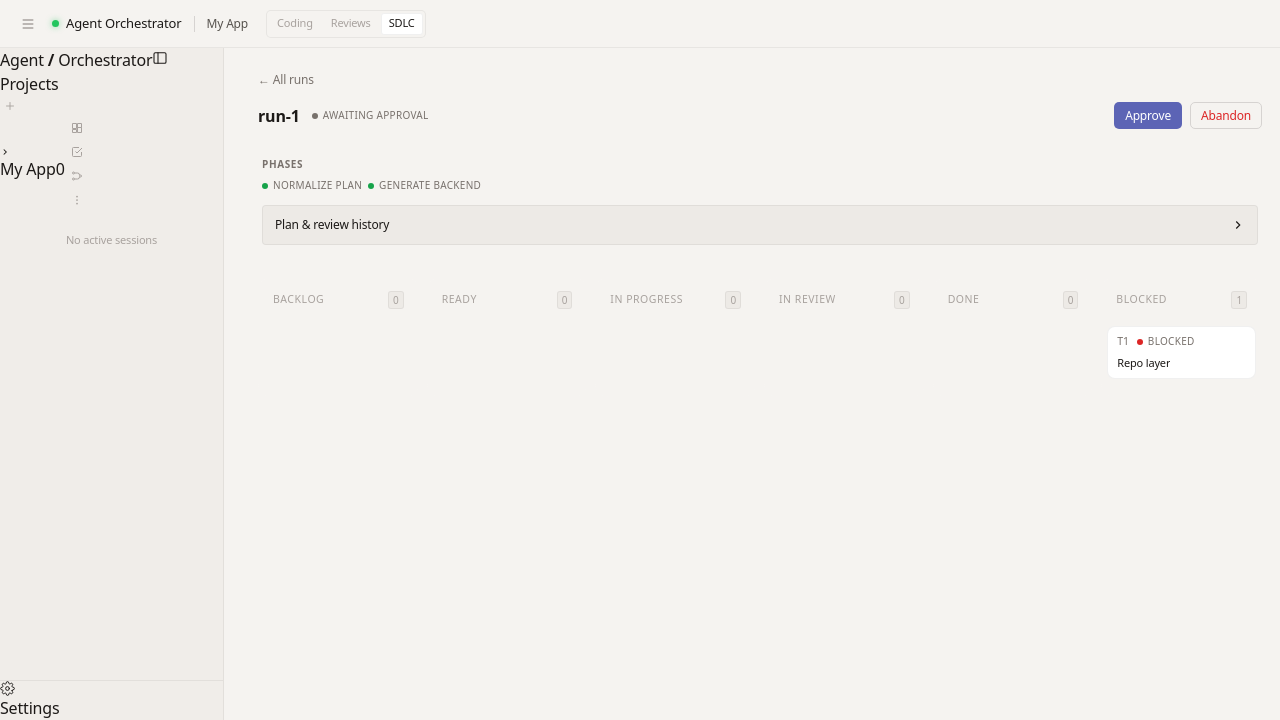
Test case: SdlcRunDetail › opens the task detail panel when a kanban card is clicked
Click the button with aria-label "Open task T1: Repo layer" at (1182, 353), box [1107,326,1256,379]
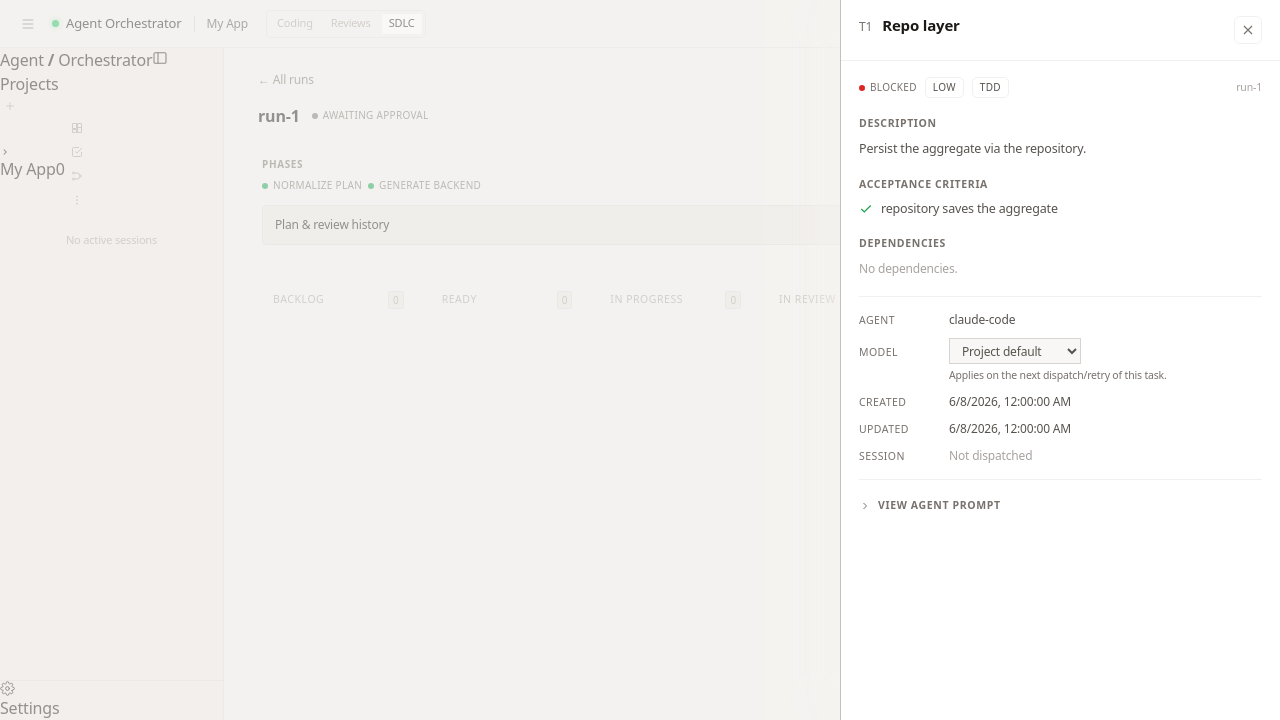
Check: the dialog named "Task T1: Repo layer" is shown, box [840,0,1279,719]
Check: the text "Persist the aggregate via the repository." is shown, box [859,140,1086,157]
